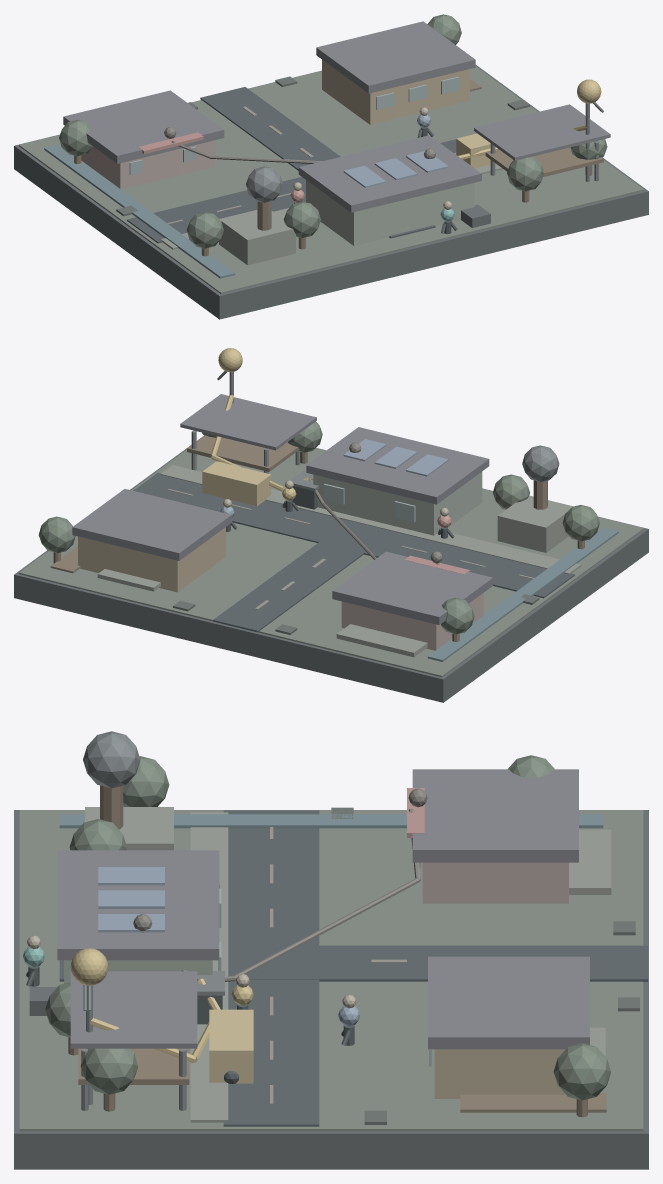
File: yudae_e_shuttle_direct.glb
The picture shows the model from 3 angles, top to bottom: view 1: azimuth 30°, elevation 25°; view 2: azimuth 150°, elevation 25°; view 3: azimuth 270°, elevation 25°; orthographic projection. The views are drawn at different scales.
Visible parts, largest first — view 1: g0001, g0000, g0037, g0043, g0031, g0042, g0003, g0054, g0036, g0030, g0061, g0002 (+16 smaller); view 2: g0001, g0000, g0002, g0037, g0043, g0031, g0003, g0042, g0036, g0054, g0015, g0061 (+14 smaller); view 3: g0001, g0000, g0002, g0037, g0031, g0043, g0003, g0054, g0030, g0036, g0015, g0016 (+19 smaller).
Boxes of the visible parts, left/top/right/bottom form: g0001: left=19, top=66, right=643, bottom=293; g0000: left=14, top=65, right=648, bottom=319; g0037: left=316, top=21, right=475, bottom=93; g0043: left=298, top=135, right=481, bottom=212; g0031: left=63, top=90, right=224, bottom=163; g0042: left=306, top=180, right=474, bottom=245; g0003: left=200, top=87, right=435, bottom=238; g0054: left=474, top=104, right=610, bottom=160; g0036: left=322, top=60, right=469, bottom=124; g0030: left=81, top=140, right=214, bottom=189; g0061: left=219, top=210, right=295, bottom=265; g0002: left=127, top=139, right=456, bottom=243; g0001: left=19, top=448, right=643, bottom=677; g0000: left=14, top=436, right=648, bottom=702; g0002: left=133, top=472, right=574, bottom=598; g0037: left=72, top=489, right=231, bottom=560; g0043: left=306, top=427, right=489, bottom=504; g0031: left=332, top=551, right=493, bottom=624; g0003: left=213, top=520, right=393, bottom=632; g0042: left=313, top=471, right=482, bottom=535; g0036: left=78, top=527, right=225, bottom=592; g0054: left=180, top=394, right=316, bottom=450; g0015: left=160, top=465, right=581, bottom=574; g0061: left=497, top=495, right=572, bottom=552; g0001: left=19, top=810, right=643, bottom=1131; g0000: left=14, top=810, right=648, bottom=1169; g0002: left=223, top=810, right=319, bottom=1126; g0037: left=428, top=956, right=589, bottom=1049; g0031: left=412, top=769, right=578, bottom=862; g0043: left=57, top=850, right=219, bottom=960; g0003: left=59, top=945, right=647, bottom=981; g0054: left=70, top=971, right=197, bottom=1048; g0030: left=422, top=862, right=568, bottom=903; g0036: left=434, top=1049, right=565, bottom=1098; g0015: left=190, top=812, right=228, bottom=1122; g0016: left=59, top=814, right=603, bottom=828.
Bounding box in the file's own units: 3.45 × 0.96 × 2.86.
